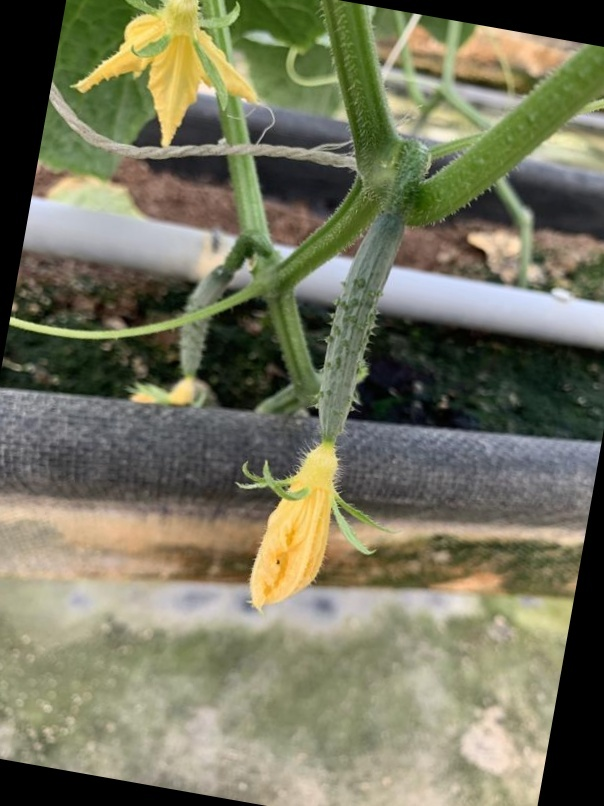bear: (239, 209, 418, 614)
